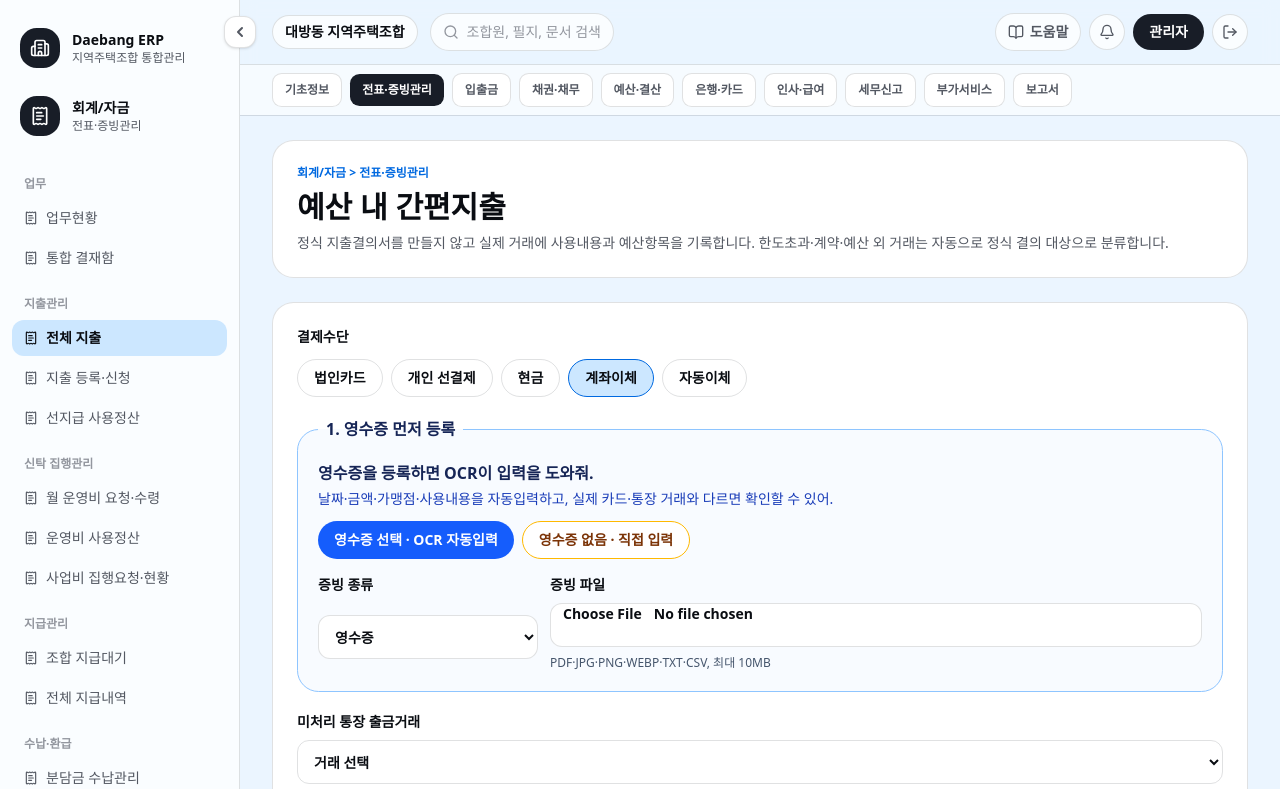
it: QuickExpensePage › saves usage against a bank transaction without creating an expense resolution
This screenshot has width=1280, height=789.
Select "2026-08-27 · 55,000원 · KT" in the dropdown labelled "미처리 통장 출금거래" at x=760, y=762, box left=297, top=740, right=1223, bottom=784
(page scrolled)
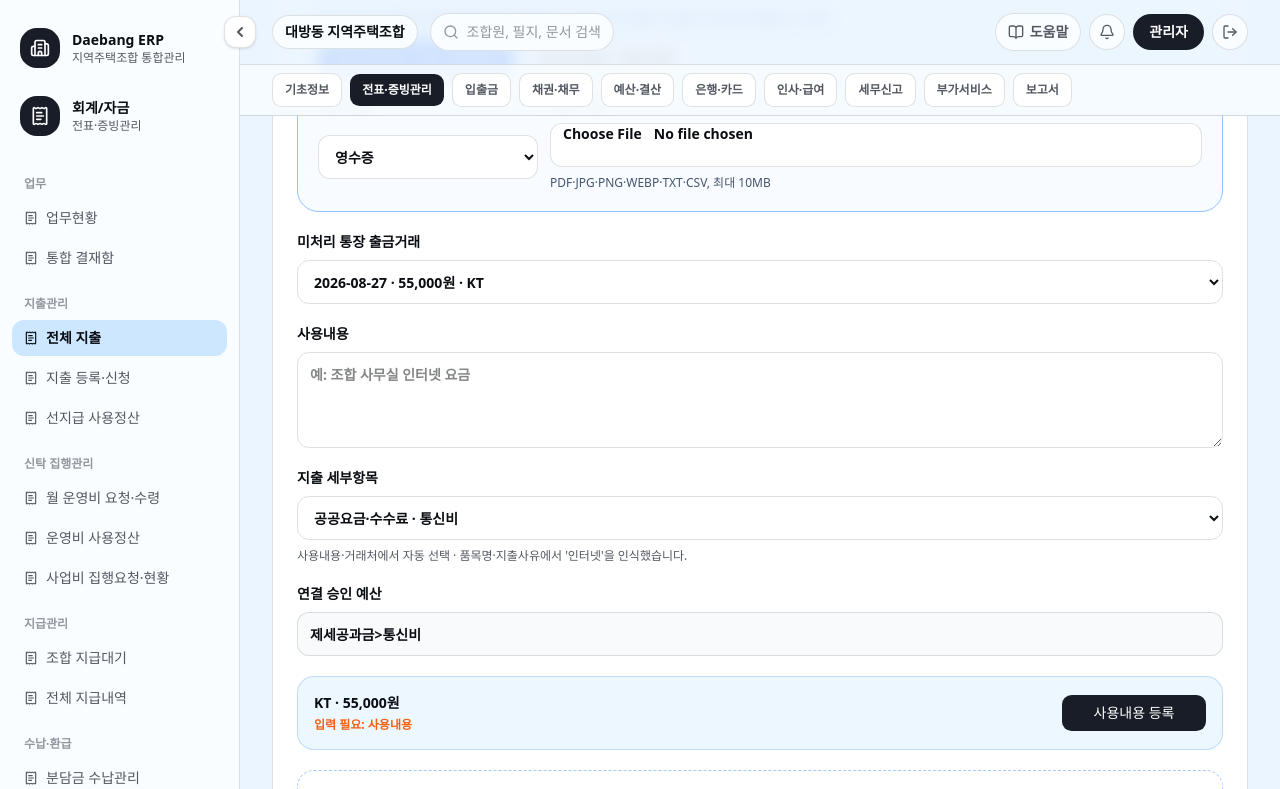
Type "조합 사무실 인터넷 요금" into the text box labelled "사용내용" at x=760, y=400, box left=297, top=352, right=1223, bottom=448
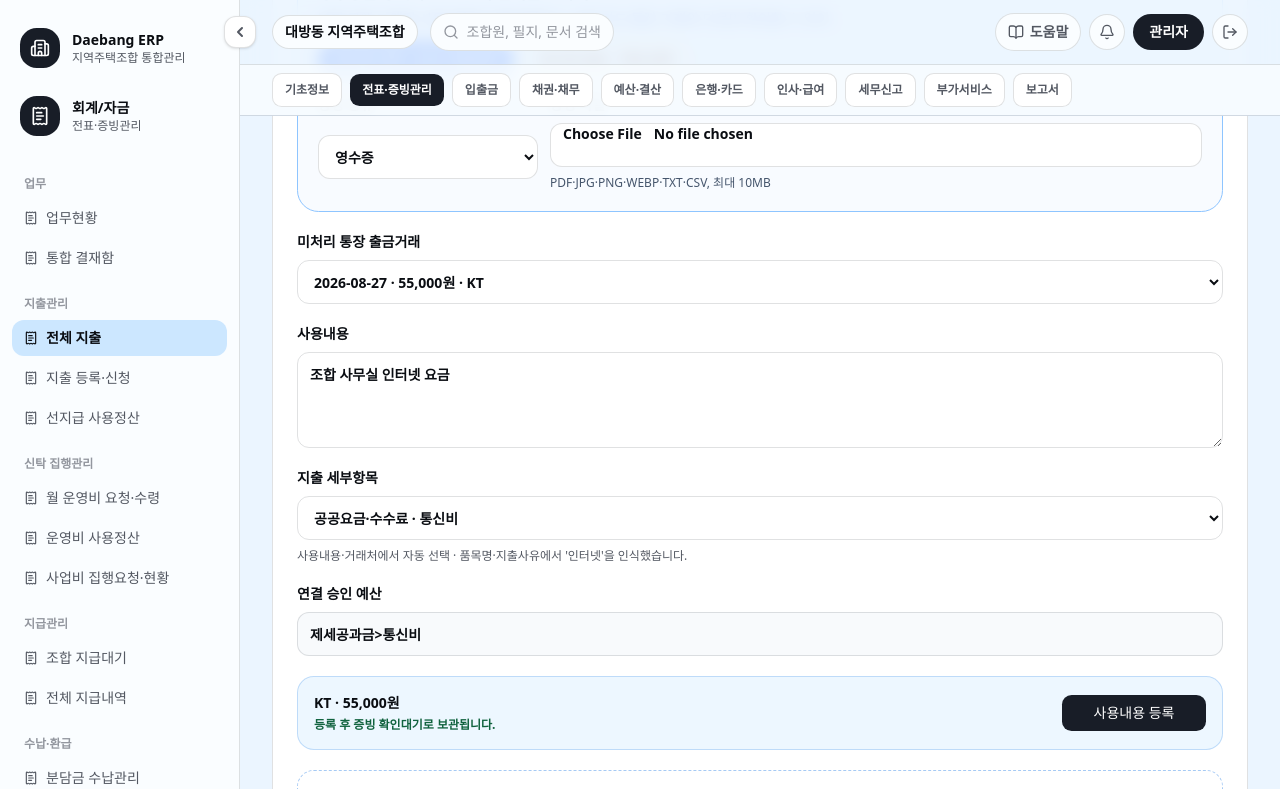
Result: the dropdown labelled "지출 세부항목" shows "공공요금·수수료 · 통신비" at left=297, top=496, right=1223, bottom=540
Result: the text "사용내용·거래처에서 자동 선택" is shown at left=297, top=547, right=687, bottom=564
Click the button "사용내용 등록" at x=1134, y=713, box left=1062, top=695, right=1206, bottom=731
(page scrolled)
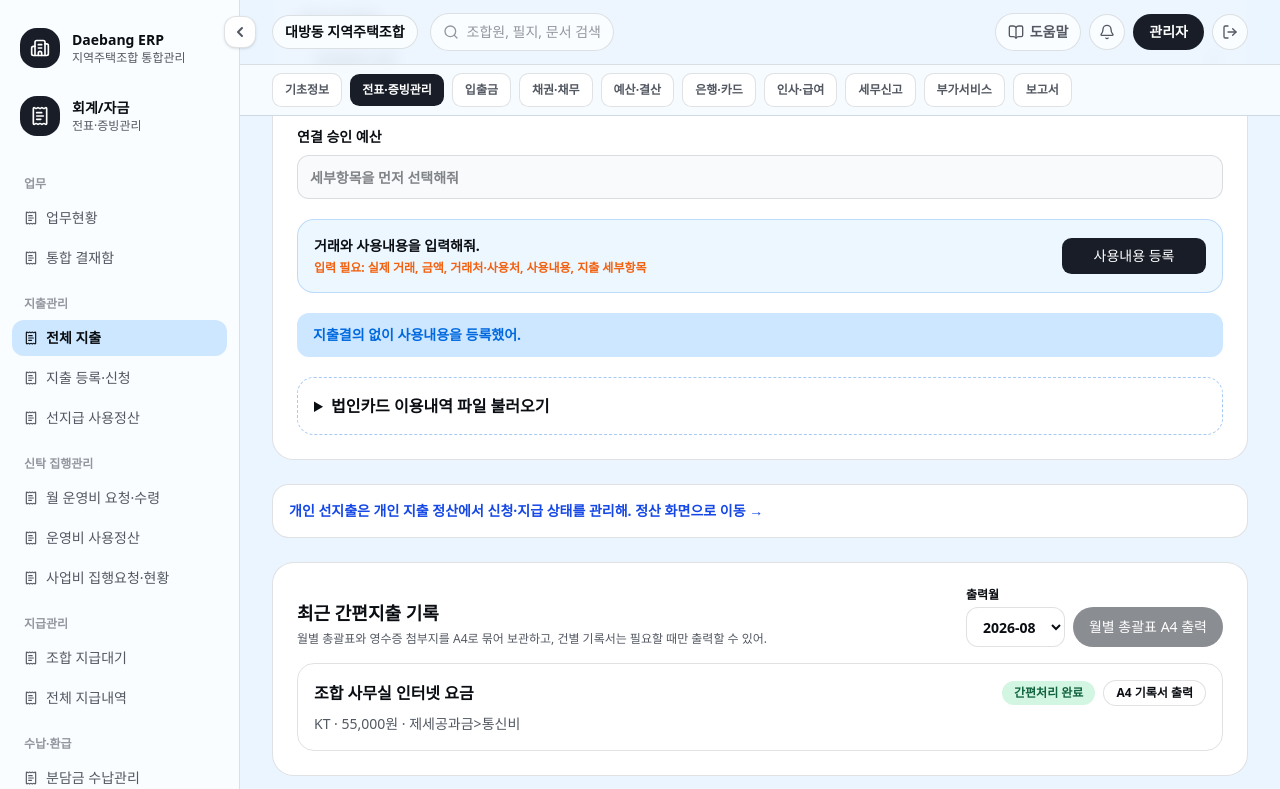
Result: the text "지출결의 없이 사용내용을 등록했어." is shown at left=297, top=313, right=1223, bottom=357
Result: the text "간편처리 완료" is shown at left=1002, top=681, right=1095, bottom=705
